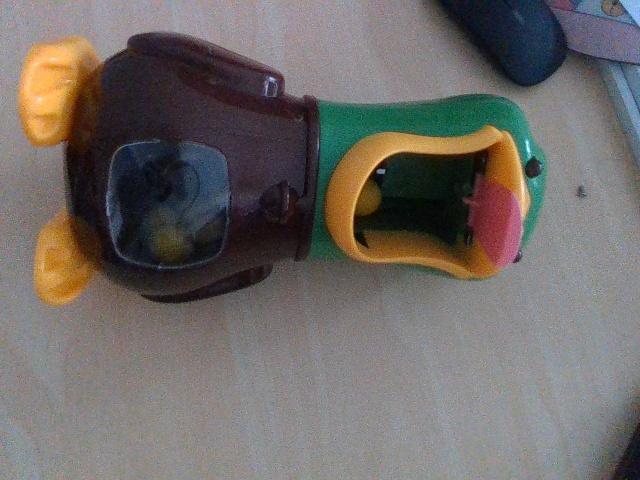toy: (16, 29, 548, 308)
